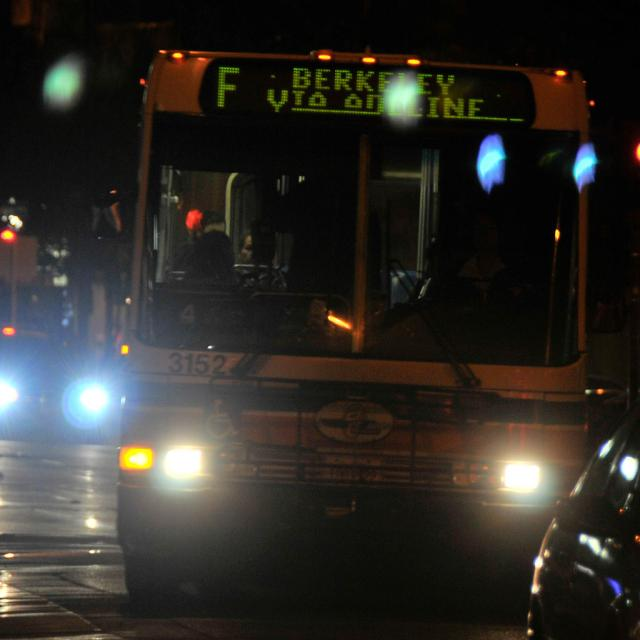Bus: (108, 23, 625, 610)
People: (170, 219, 265, 337)
car: (0, 240, 133, 507), (523, 395, 640, 640)
